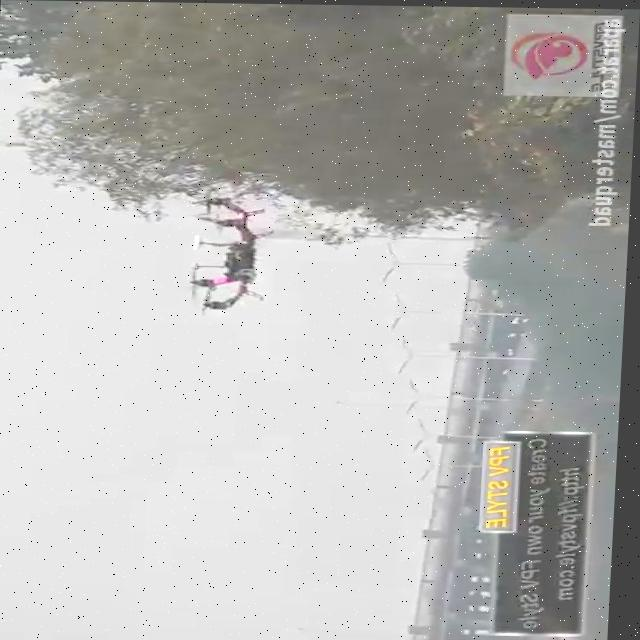drone: (182, 182, 275, 323)
